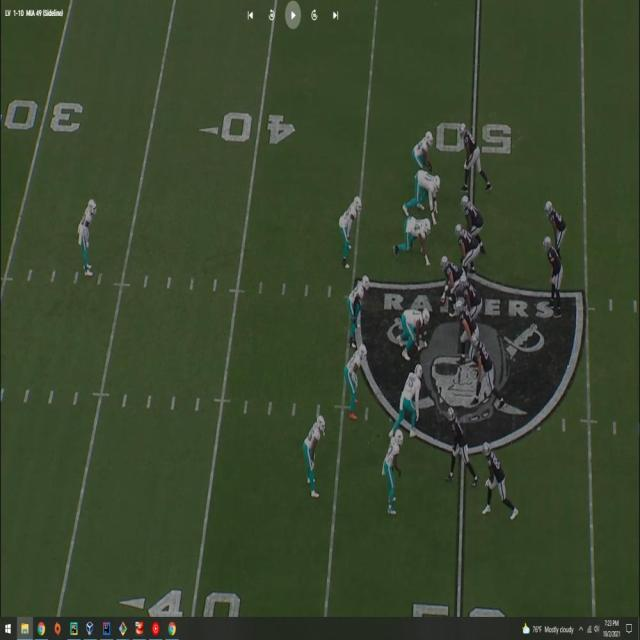center: (442, 256, 463, 307)
db: (304, 414, 324, 499), (386, 425, 404, 496), (77, 202, 95, 252), (414, 128, 436, 162)
lb: (348, 336, 368, 397), (343, 199, 362, 261), (352, 279, 369, 326)
qb: (543, 237, 563, 304)
skill: (484, 438, 513, 516), (472, 337, 496, 407), (464, 125, 487, 185), (448, 408, 469, 466), (547, 204, 564, 248)
